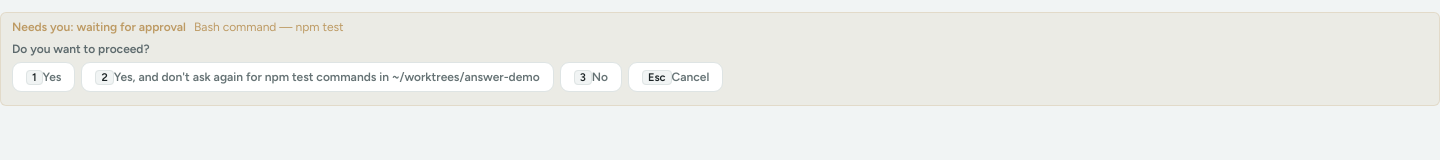
Test case: ApprovalCallout › a click › after send-failed (unknown whether a key went out) › keeps saying to check the terminal until the dialog changes
This screenshot has width=1440, height=160.
Click the button with test id "card-approval-option" showing "1Yes". click: (44, 77)
box: [12,62,76,92]
Wait 10000 ms
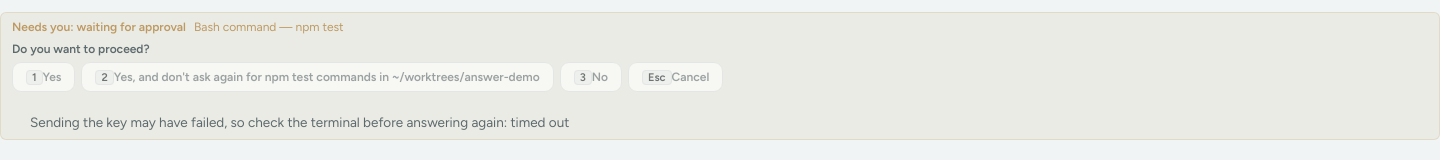
Expected: the text with test id "card-approval-result" shows "check the terminal", [30,114,569,130]
